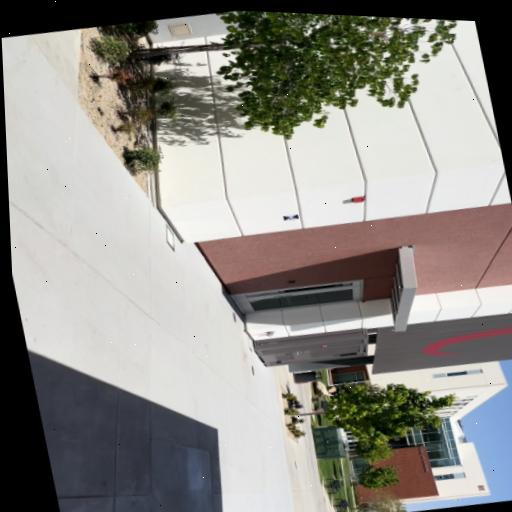target2: (282, 213, 298, 221)
